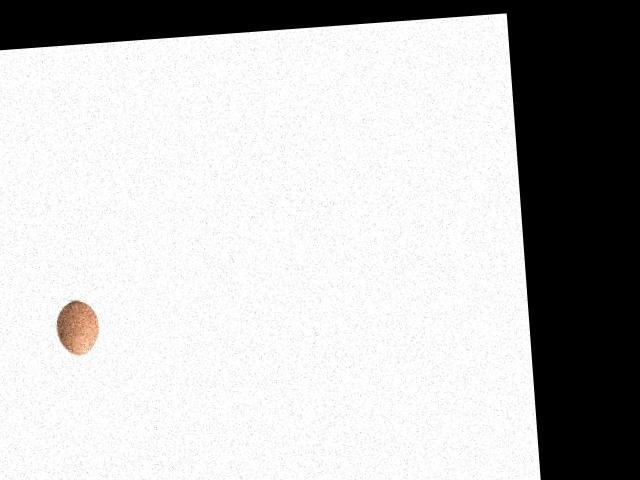egg: (54, 299, 99, 356)
